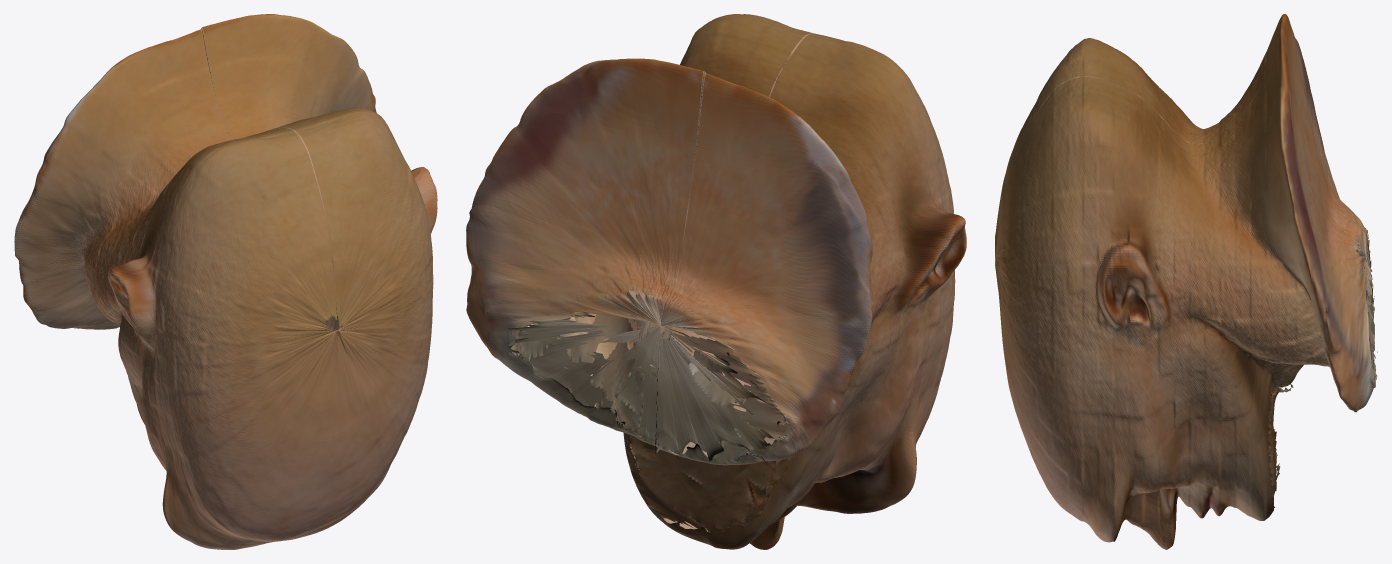
The model's file is mesh_inpaint.glb.
3 views of the same model, side by side, from view 1: azimuth 30°, elevation 25°; view 2: azimuth 150°, elevation 25°; view 3: azimuth 270°, elevation 25° (orthographic). The views are drawn at different scales.
Visible parts, largest first — view 1: ipn; view 2: ipn, fill; view 3: ipn, fill.
Boxes of the visible parts, box(x1,y1,x2,y2) form: ipn: box(14, 14, 437, 549); ipn: box(466, 14, 966, 549); fill: box(512, 311, 793, 532); ipn: box(995, 14, 1375, 549); fill: box(1268, 228, 1377, 507).
Size of the model in its own units: 1.39 by 1.73 by 1.18.
Materials: 2 (1 with a texture image).
